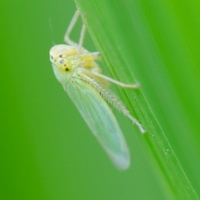insect: (50, 9, 145, 169)
